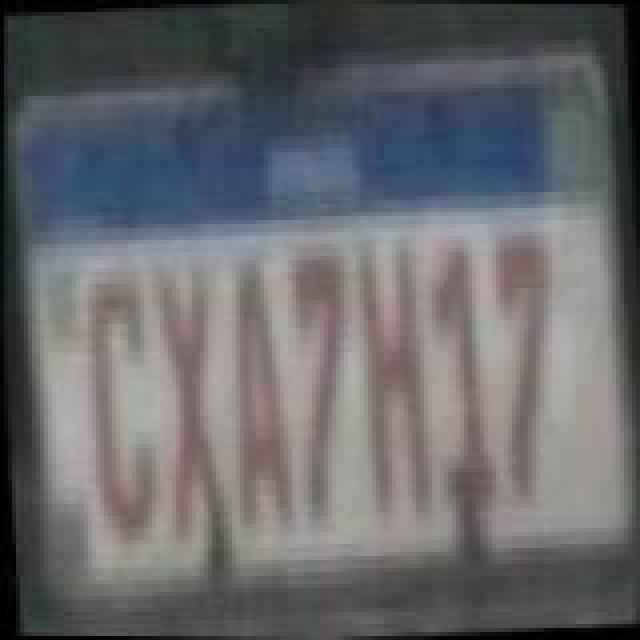1: (426, 230, 506, 510)
7: (282, 246, 366, 522), (484, 226, 568, 502)
A: (216, 260, 296, 544)
C: (76, 268, 164, 540)
H: (352, 238, 440, 526)
X: (150, 264, 234, 540)
